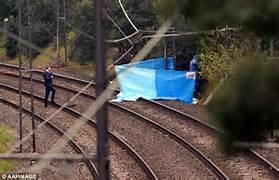Dust_screen: (111, 55, 197, 109)
